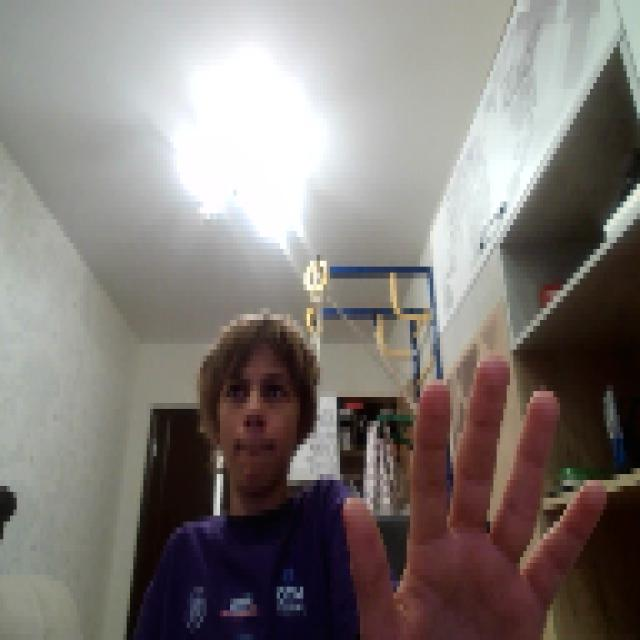hand: (336, 350, 606, 634)
